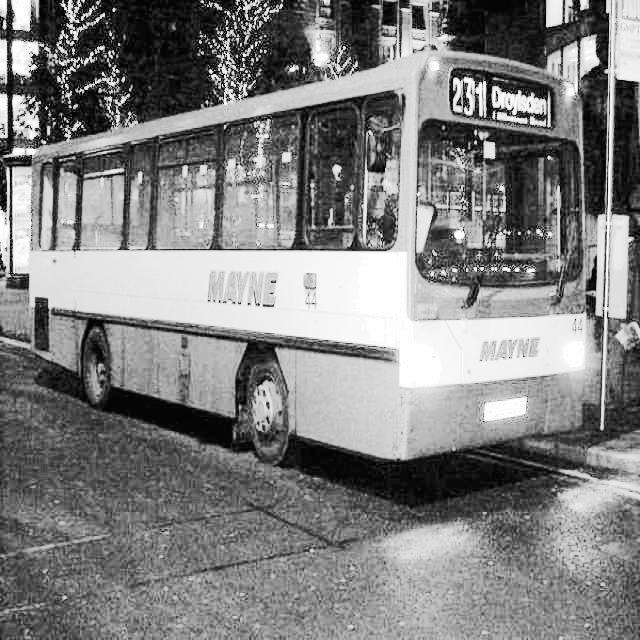Bus: (22, 64, 606, 512)
